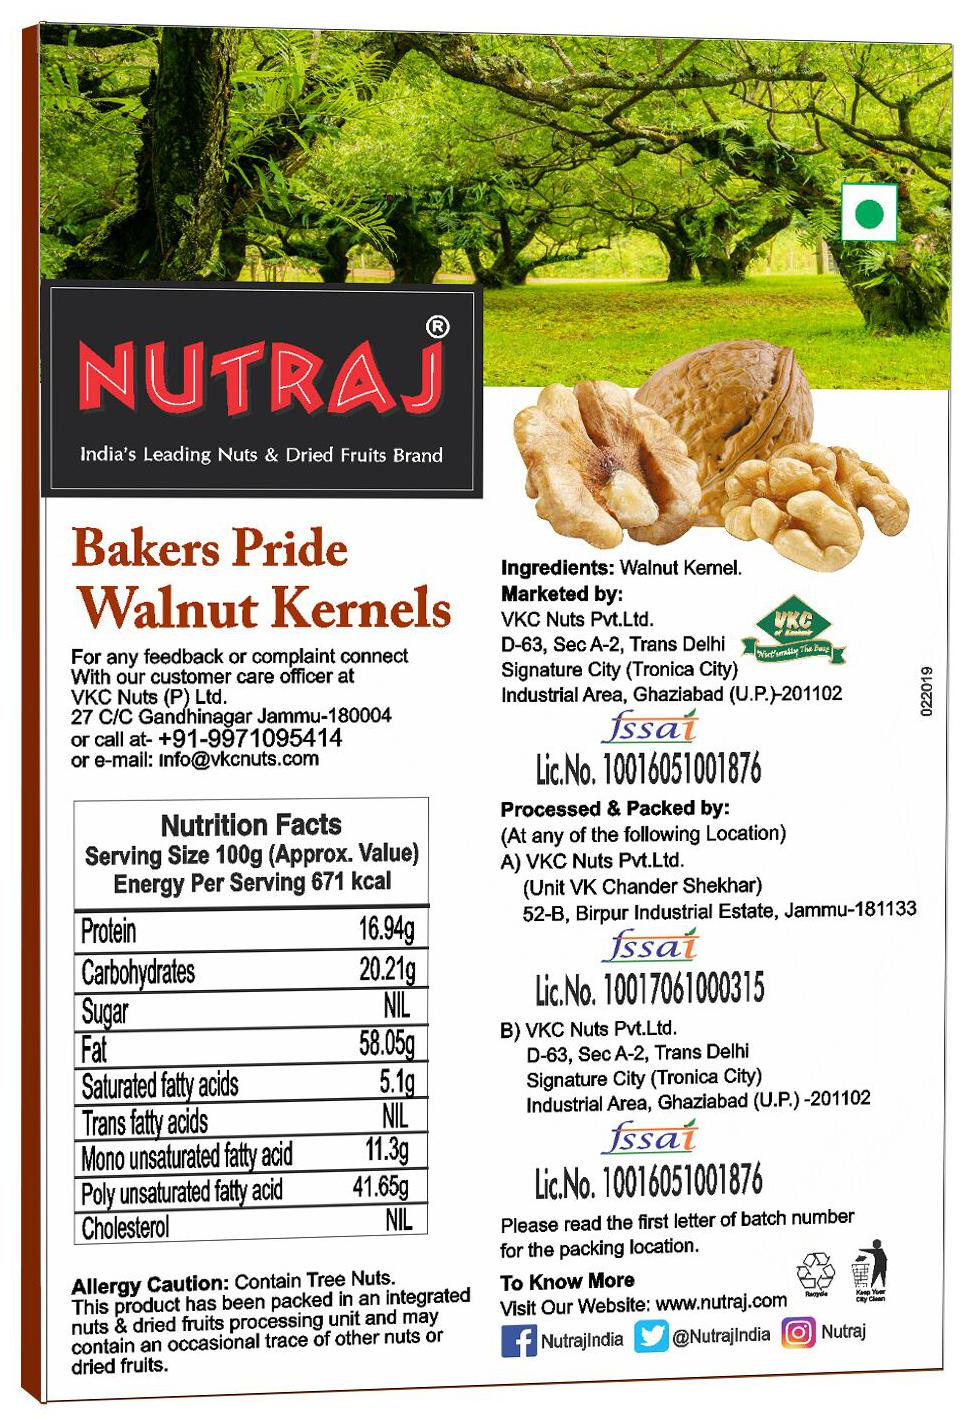fssai: (597, 927, 702, 963), (599, 1117, 698, 1155), (599, 707, 701, 743)
